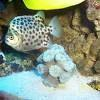Scat Fish: (6, 13, 62, 51)
